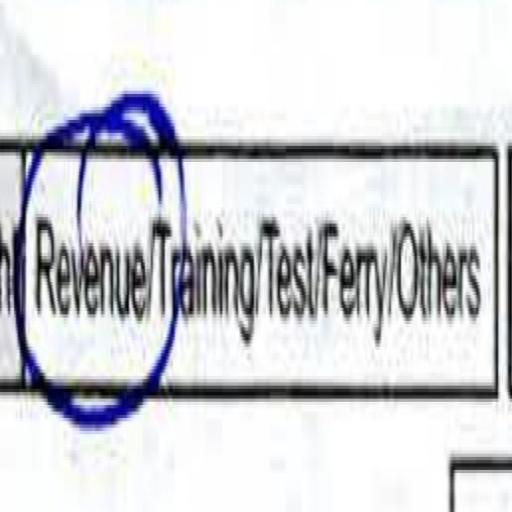check: (28, 104, 152, 508)
